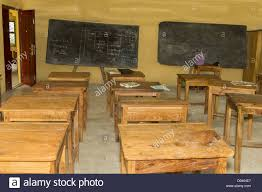desk: (0, 72, 121, 173), (116, 123, 235, 173), (224, 91, 261, 173), (12, 92, 77, 124), (174, 72, 219, 107), (108, 78, 166, 98), (48, 70, 88, 88), (103, 68, 146, 81)
